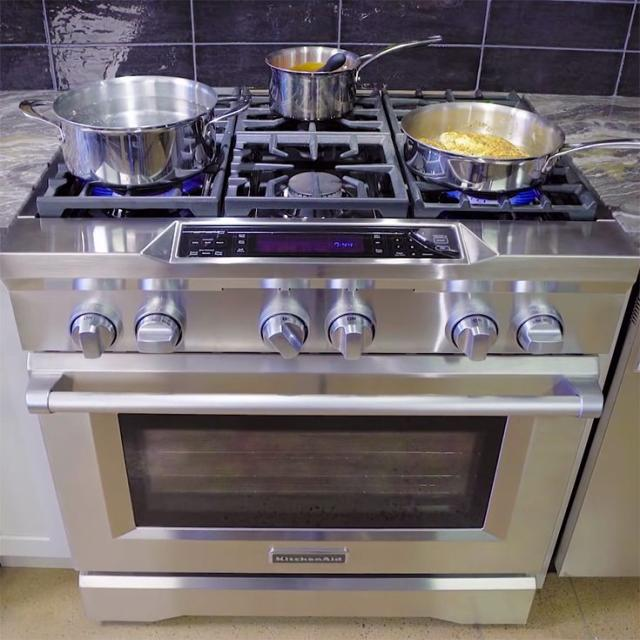knob_OFF: (423, 180, 567, 223), (81, 174, 208, 209)
knob_ON: (229, 143, 402, 234)
